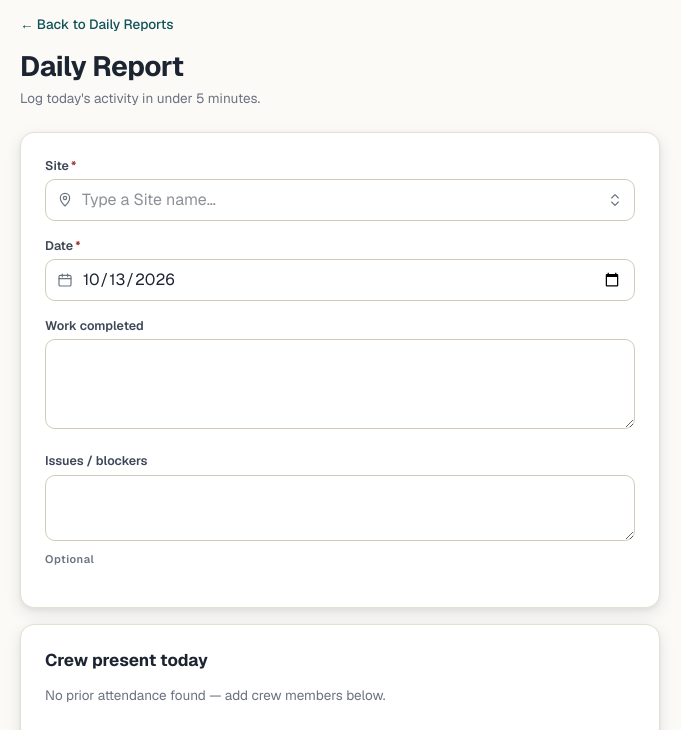
Test: NewDsrPage › pre-populates the crew checklist from the defaults endpoint once a Site and date are set
The width and height of the screenshot is (681, 730).
Type "NH" into the dropdown labelled "Site" at (340, 200), box 45,179 -> 635,221
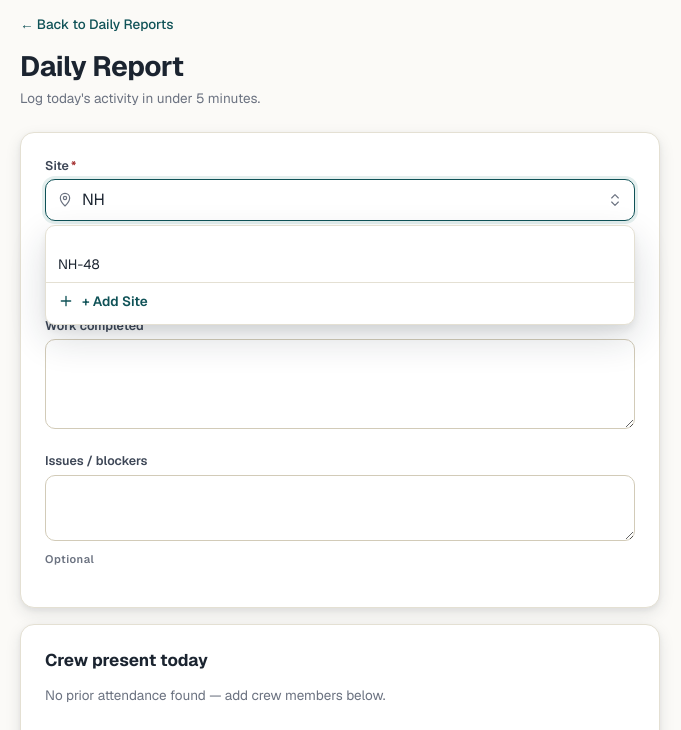
Click the option "NH-48" at (79, 264), box 58,255 -> 100,273
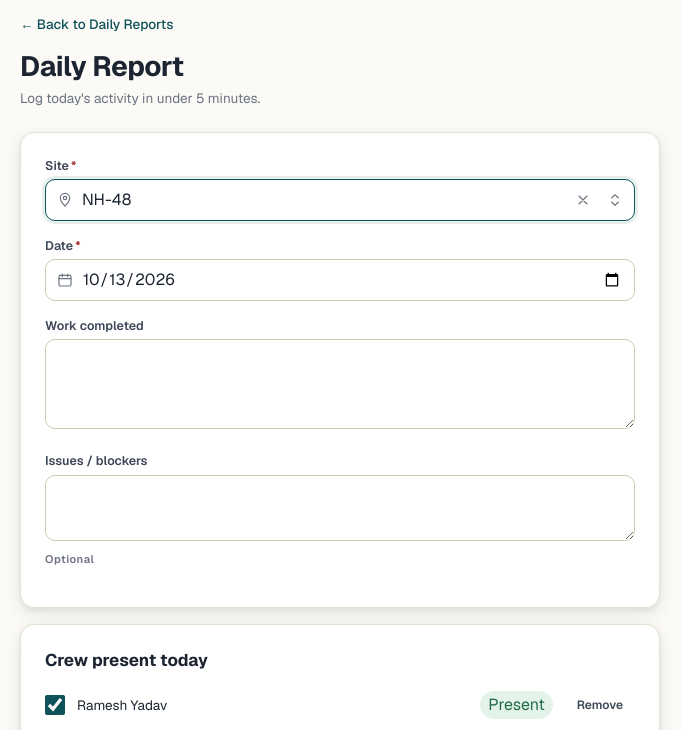
expect the text "Ramesh Yadav" is shown: met, box 77,696 -> 167,714
expect the checkbox labelled "Ramesh Yadav" is checked: met, box 45,695 -> 65,715
